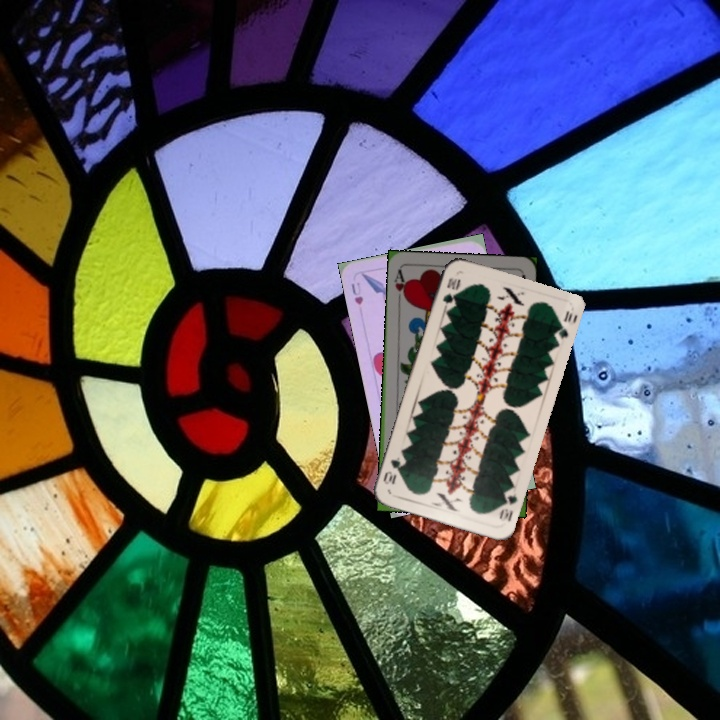G10: (495, 485, 520, 524), (439, 273, 462, 306)
HA: (390, 266, 410, 306)
HU: (347, 278, 366, 307)
